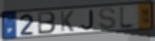2: (17, 12, 36, 37)
B: (36, 11, 57, 36)
J: (80, 9, 95, 31)
K: (59, 10, 75, 33)
L: (119, 5, 137, 31)
S: (98, 7, 118, 31)
